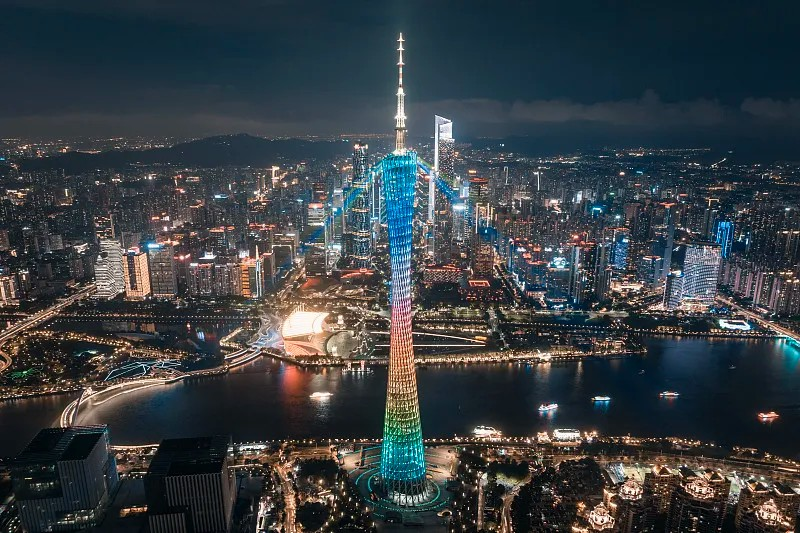Canton: (376, 31, 437, 502)
